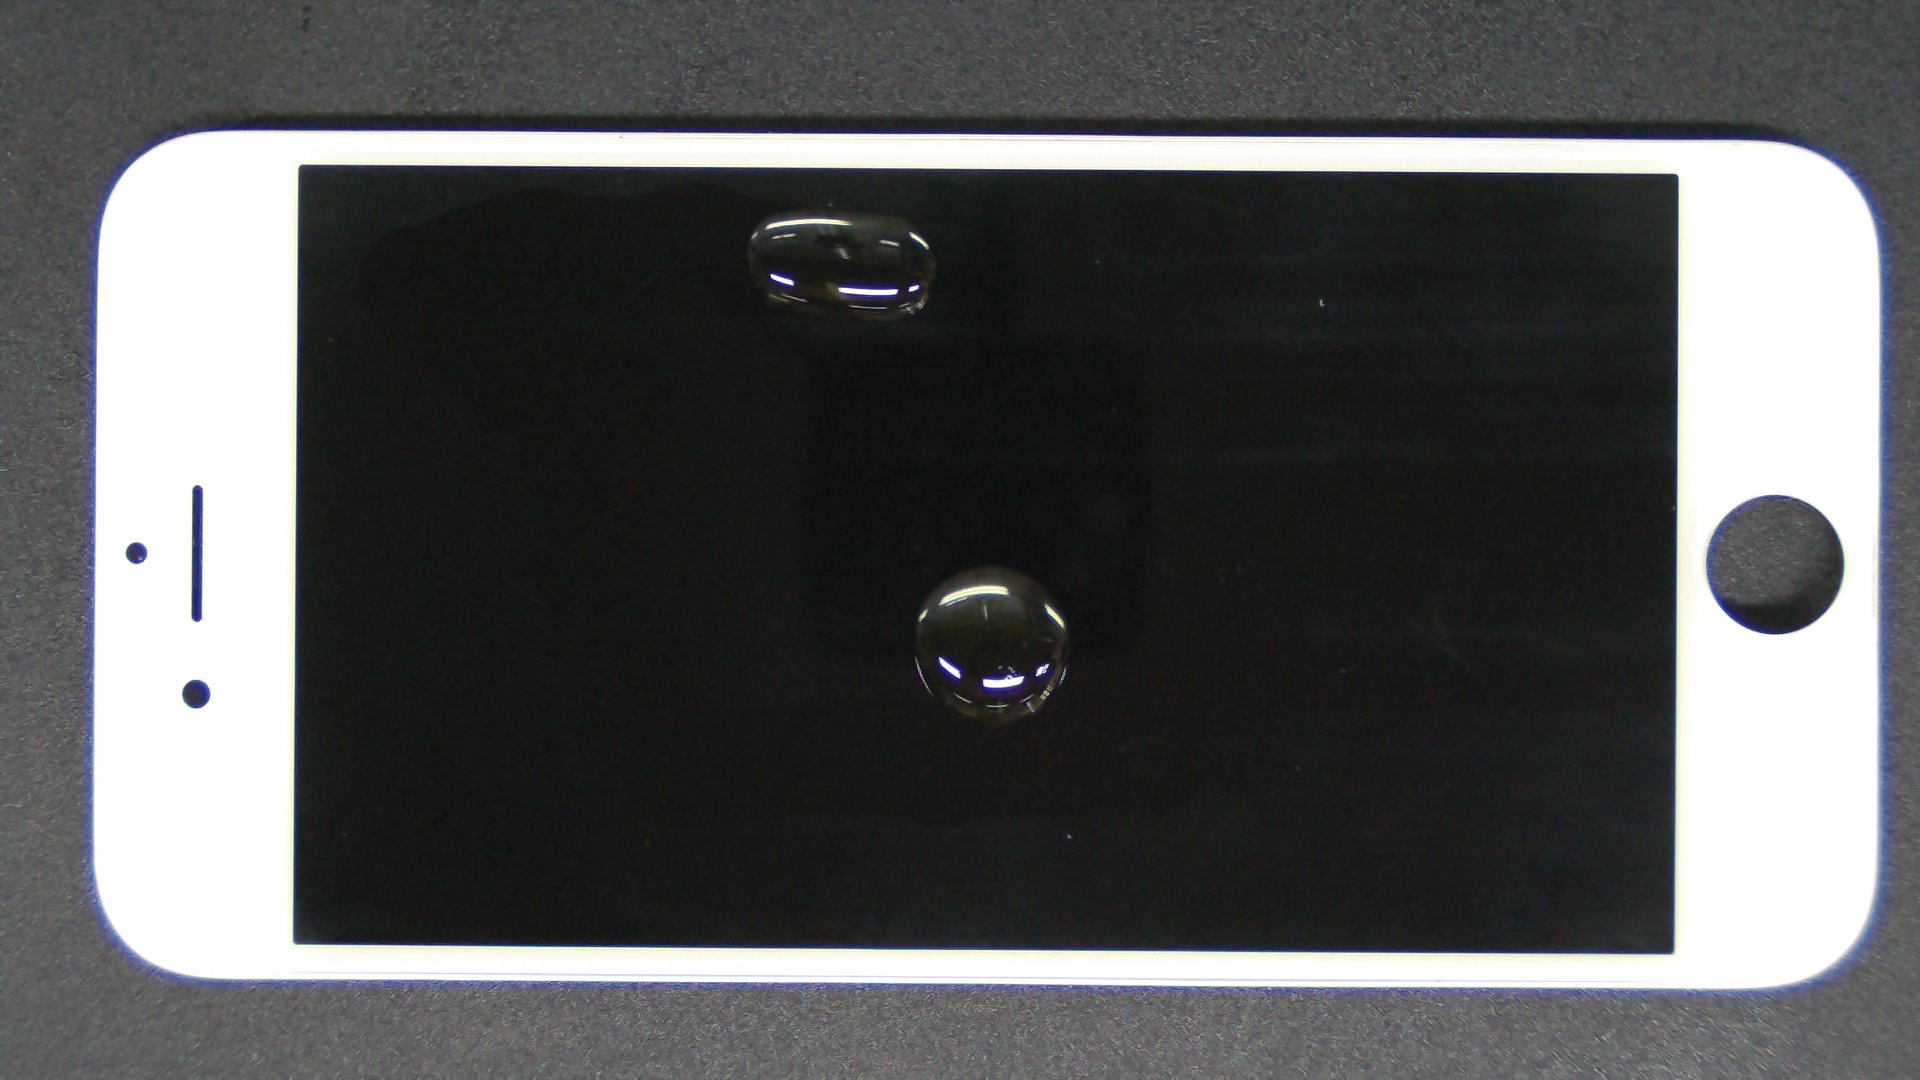defect: (914, 564, 1069, 727), (748, 208, 938, 320)
